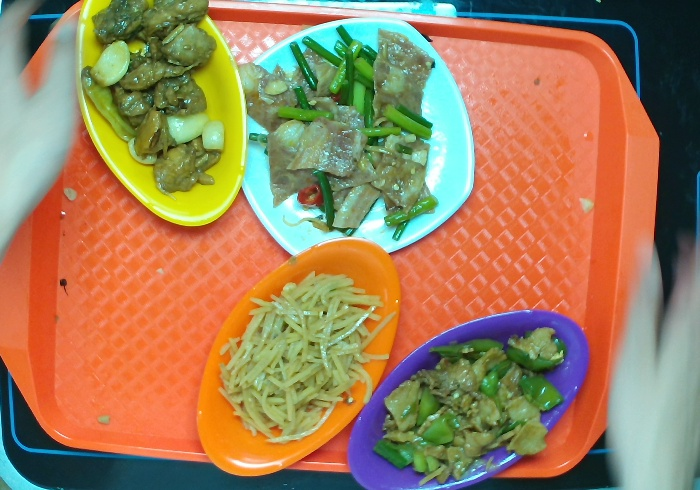RJxy-Fen_Hong_Tuo_Yuan: (343, 303, 593, 490)
RJxy-Huang_Se_Tuo_Yuan: (66, 1, 264, 230)
RJxy-Ju_Huang_Tuo_Yuan: (188, 235, 406, 490)
RJxy-Si_Fang_Die: (225, 13, 478, 273)
